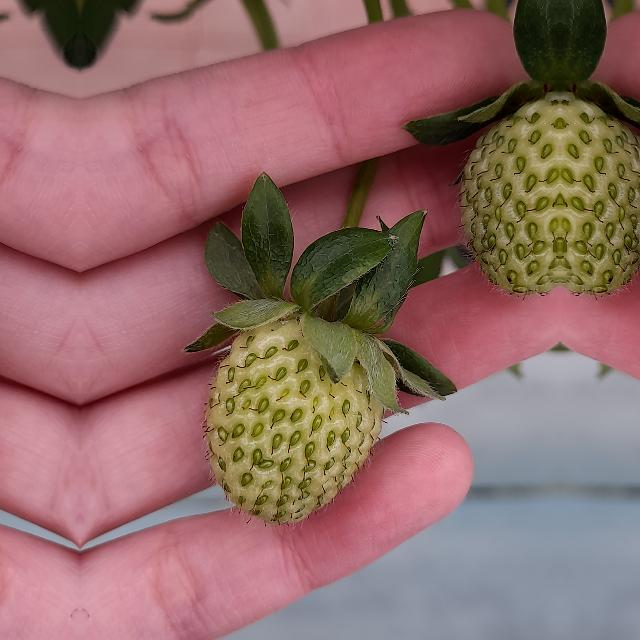Health_25: (206, 312, 384, 524), (462, 95, 560, 297), (560, 95, 640, 297)
